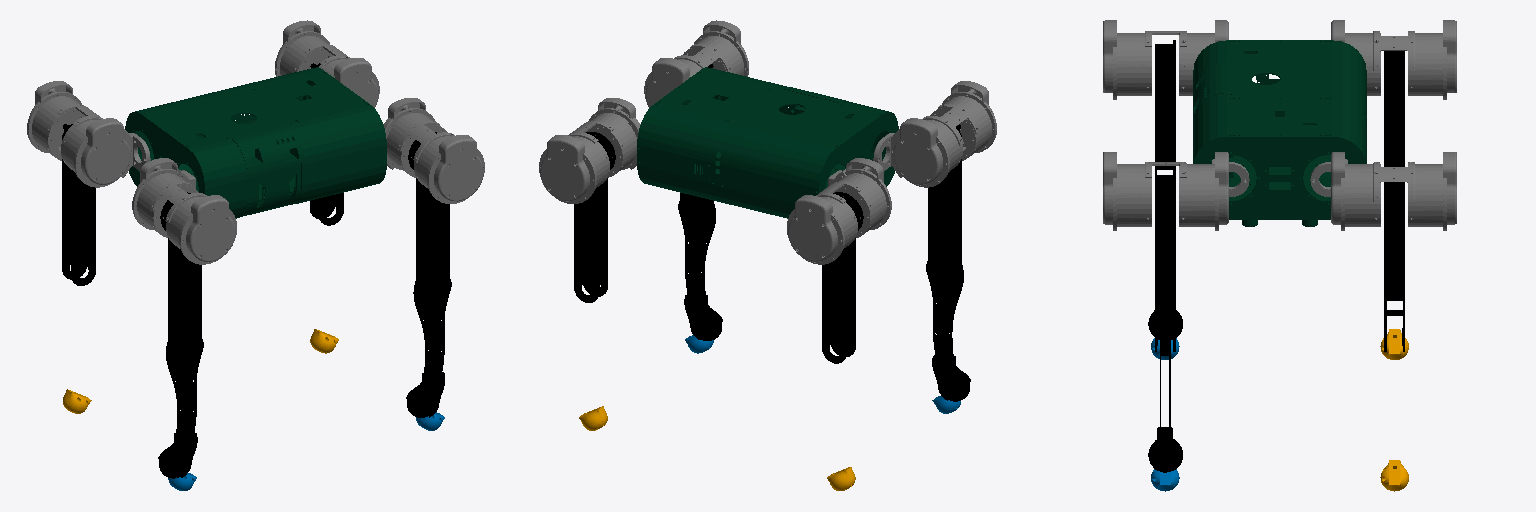
robot.urdf — m2_metal:
<?xml version="1.0" encoding="utf-8" ?>
<!-- =================================================================================== -->
<!-- |    This document was autogenerated by xacro from src/m2_metal_description/xacro/robot.xacro | -->
<!-- |    EDITING THIS FILE BY HAND IS NOT RECOMMENDED                                 | -->
<!-- =================================================================================== -->
<robot name="m2_metal">
  <!-- base -->
  <!-- <xacro:property name="base_com_x" value="0.002585"/>
<xacro:property name="base_com_y" value="0.003221"/>
<xacro:property name="base_com_z" value="0.008796"/>
<xacro:property name="base_mass" value="5.428590"/>
<xacro:property name="base_ixx" value="0.028959"/>
<xacro:property name="base_ixy" value="-0.000021"/>
<xacro:property name="base_ixz" value="0.001591"/>
<xacro:property name="base_iyy" value="0.0601762"/>
<xacro:property name="base_iyz" value="0.000025"/>
<xacro:property name="base_izz" value="0.068516"/> -->
  <!-- without camera mount
<xacro:property name="base_com_x" value="-0.002656"/>
<xacro:property name="base_com_y" value="0.003430"/>
<xacro:property name="base_com_z" value="0.000860"/>
<xacro:property name="base_mass" value="5.016234"/>
<xacro:property name="base_ixx" value="0.023890"/>
<xacro:property name="base_ixy" value="-0.000506"/>
<xacro:property name="base_ixz" value="-0.001154"/>
<xacro:property name="base_iyy" value="0.053100"/>
<xacro:property name="base_iyz" value="-0.000013"/>
<xacro:property name="base_izz" value="0.065972"/> -->
  

  <!-- <xacro:include filename="$(find m2_description)/xacro/transmission.xacro"/> -->
  <material name="svan_black">
    <color rgba="0.0 0.0 0.0 1.0"/>
  </material>
  <material name="svan_blue">
    <color rgba="0.0 0.0 0.8 1.0"/>
  </material>
  <material name="svan_green">
    <color rgba="0.024 0.251 0.169 1.0"/>
  </material>
  <material name="svan_grey">
    <color rgba="0.5 0.5 0.5 1.0"/>
  </material>

  <!-- <mujoco>
    <compiler 
    meshdir="../../meshes_metal/"
    discardvisual="false"
    balanceinertia="true"
  />
  </mujoco> -->

  <!-- <link name="world"/>
  <joint name="floating_base" type="floating">
    <origin rpy="0 0 0" xyz="0 0 0"/>
    <parent link="world"/>
    <child link="base"/>
  </joint> -->

 <link name="base">
    <visual>
      <origin rpy="0 0 0" xyz="0 0 0"/>
      <geometry>
        <mesh filename="../meshes_metal/torso.STL" scale="1 1 1"/>
        <!-- <mesh filename="[local-path]/Desktop/Dhaya/Dhaya_RL/isaac_sim/svan_m2_metal/m2_metal_description/m2_metal_description/../meshes_metal/torso.STL" scale="1 1 1"/> -->
      </geometry>
      <material name="svan_green"/>
    </visual>
    <collision>
      <origin rpy="0 0 0" xyz="0 0 0"/>
      <geometry>
        <box size="0.288 0.213 0.120"/>
      </geometry>
    </collision>
    <inertial>
      <origin rpy="0 0 0" xyz="0.00918208 -0.00133606 -0.00430117"/>
      <mass value="5.18596663"/>
      <inertia ixx="0.02220107" ixy="-0.00019966" ixz="-0.00048929" iyy="0.05026338" iyz="-1.273e-05" izz="0.06413613"/>
    </inertial>
  </link>
  <!-- hip_link-->
  <link name="FR_hip_link">
    <inertial>
      <origin rpy="0 0 0" xyz="0.04244851 -0.07733848 0.00084768"/>
      <mass value="1.12704463"/>
      <inertia ixx="0.0026019" ixy="0.0001226" ixz="7.5e-06" iyy="0.0009202" iyz="-2.4e-06" izz="0.0026365"/>
    </inertial>
    <visual>
      <origin rpy="0 0 0" xyz="0 0 0"/>
      <geometry>
        <mesh filename="../meshes_metal/FR_hip.STL"/>
      </geometry>
      <material name="svan_grey"/>
    </visual>
    <collision>
      <origin rpy="1.57079632679 0 0" xyz="0.043 -0.08 0"/>
      <geometry>
        <cylinder length="0.16" radius="0.045"/>
      </geometry>
    </collision>
  </link>
  <!-- hip_joint -->
  <joint name="FR_hip_joint" type="revolute">
    <origin rpy="0 0 0" xyz="0.147 -0.06 0.00025"/>
    <parent link="base"/>
    <child link="FR_hip_link"/>
    <axis xyz="1 0 0"/>
    <limit effort="20" lower="-4.8" upper="4.8" velocity="52.4"/>
  </joint>
  <!-- thigh link -->
  <link name="FR_thigh_link">
    <inertial>
      <origin rpy="0 0 0" xyz="0.0 0.00262472 -0.06933846"/>
      <mass value="0.15396568"/>
      <inertia ixx="0.00075104" ixy="0.0" ixz="0.0" iyy="0.00076325" iyz="-2.968e-05" izz="4.729e-05"/>
    </inertial>
    <visual>
      <origin rpy="0 0 0" xyz="0 0 0"/>
      <geometry>
        <mesh filename="../meshes_metal/FR_thigh.STL"/>
      </geometry>
      <material name="svan_black"/>
    </visual>
    <collision>
      <origin rpy="0 1.57079632679 0" xyz="0 0 -0.127"/>
      <geometry>
        <box size="0.16 0.027 0.038"/>
      </geometry>
    </collision>
  </link>
  <!-- thigh_joint -->
  <joint name="FR_thigh_joint" type="revolute">
    <origin rpy="0 0 0" xyz="0.043751 -0.0811 0"/>
    <parent link="FR_hip_link"/>
    <child link="FR_thigh_link"/>
    <axis xyz="0 1 0"/>
    <limit effort="55" lower="-4.047197551" upper="4.188790205" velocity="28.6"/>
  </joint>
  <!-- shank_link-->
  <link name="FR_shank_link">
    <inertial>
      <origin rpy="0 0 0" xyz="-0.00106 9e-06 -0.0450013"/>
      <mass value="0.124482"/>
      <inertia ixx="0.0005021" ixy="0.0" ixz="-1.27e-05" iyy="0.0005174" iyz="1e-07" izz="2.02e-05"/>
    </inertial>
    <visual>
      <origin rpy="0 0 0" xyz="0 0 0"/>
      <geometry>
        <mesh filename="../meshes_metal/FR_shank.STL"/>
      </geometry>
      <material name="svan_black"/>
    </visual>
    <collision>
      <origin rpy="0 1.309 0" xyz="-0.005 0 -0.09"/>
      <geometry>
        <box size="0.14 0.016 0.03"/>
      </geometry>
    </collision>

  </link>
  <!-- calf_joint -->
  <joint name="FR_calf_joint" type="revolute">
    <origin rpy="0 0 0" xyz="0 0 -0.1915"/>
    <parent link="FR_thigh_link"/>
    <child link="FR_shank_link"/>
    <axis xyz="0 1 0"/>
    <limit effort="55" lower="-4.696533694" upper="4.916297857" velocity="28.6"/>
  </joint>
  <!-- foot-->
  <link name="FR_foot">
    <contact>
      <friction_anchor/>
      <stiffness value="10000"/>
      <damping value="1000"/>
      <spinning_friction value="0.8"/>
      <lateral_friction value="10"/>
    </contact>
    <inertial>
      <origin rpy="0 0 0" xyz="-0.0025566 0.00017773 -0.00416818"/>
      <mass value="0.02330447"/>
      <inertia ixx="2.62e-06" ixy="1e-08" ixz="-3.7e-07" iyy="2.62e-06" iyz="2e-08" izz="3e-06"/>
    </inertial>
    <visual>
      <geometry>
        <mesh filename="../meshes_metal/FL_foot.STL"/>
      </geometry>
    </visual>
  <collision>
    <origin xyz="0.00 0.00017773 -0.001" rpy="0 0 0"/> <!-- optional if center is same -->
    <geometry>
      <sphere radius="0.021"/>
    </geometry>
  </collision>
  </link>
  <!-- foot_joint -->
  <joint name="FR_foot_joint" type="fixed" dont_collapse="true">
    <origin rpy="0 0 0" xyz="-0.00351 0 -0.1901"/>
    <parent link="FR_shank_link"/>
    <child link="FR_foot"/>
    <axis xyz="0 0 1"/>
    <limit effort="1000" lower="0" upper="0" velocity="0"/>
  </joint>

  <!-- hip_link-->
  <link name="FL_hip_link">
    <inertial>
      <origin rpy="0 0 0" xyz="0.04244851 0.07733848 0.00084768"/>
      <mass value="1.12704463"/>
      <inertia ixx="0.0026019" ixy="-0.0001226" ixz="7.5e-06" iyy="0.0009202" iyz="2.4e-06" izz="0.0026365"/>
    </inertial>
    <visual>
      <origin rpy="0 0 0" xyz="0 0 0"/>
      <geometry>
        <mesh filename="../meshes_metal/FL_hip.STL"/>
      </geometry>
      <material name="svan_grey"/>
    </visual>
    <collision>
      <origin rpy="1.57079632679 0 0" xyz="0.043 0.08 0"/>
      <geometry>
        <cylinder length="0.16" radius="0.045"/>
      </geometry>
    </collision>
  </link>
  <!-- hip_joint -->
  <joint name="FL_hip_joint" type="revolute">
    <origin rpy="0 0 0" xyz="0.147 0.06 0.00025"/>
    <parent link="base"/>
    <child link="FL_hip_link"/>
    <axis xyz="1 0 0"/>
    <limit effort="20" lower="-4.8" upper="4.8" velocity="52.4"/>
  </joint>
  <!-- thigh link -->
  <link name="FL_thigh_link">
    <inertial>
      <origin rpy="0 0 0" xyz="0.0 -0.00262472 -0.06933846"/>
      <mass value="0.15396568"/>
      <inertia ixx="0.00075104" ixy="-0.0" ixz="0.0" iyy="0.00076325" iyz="2.968e-05" izz="4.729e-05"/>
    </inertial>
    <visual>
      <origin rpy="0 0 0" xyz="0 0 0"/>
      <geometry>
        <mesh filename="../meshes_metal/FL_thigh.STL"/>
      </geometry>
      <material name="svan_black"/>
    </visual>
    <collision>
      <origin rpy="0 1.57079632679 0" xyz="0 0 -0.127"/>
      <geometry>
        <box size="0.16 0.027 0.038"/>
      </geometry>
    </collision>
  </link>
  <!-- thigh_joint -->
  <joint name="FL_thigh_joint" type="revolute">
    <origin rpy="0 0 0" xyz="0.043751 0.0811 0"/>
    <parent link="FL_hip_link"/>
    <child link="FL_thigh_link"/>
    <axis xyz="0 1 0"/>
    <limit effort="55" lower="-4.047197551" upper="4.188790205" velocity="28.6"/>
  </joint>
  <!-- shank_link-->
  <link name="FL_shank_link">
    <inertial>
      <origin rpy="0 0 0" xyz="-0.00106 -9e-06 -0.0450013"/>
      <mass value="0.124482"/>
      <inertia ixx="0.0005021" ixy="-0.0" ixz="-1.27e-05" iyy="0.0005174" iyz="-1e-07" izz="2.02e-05"/>
    </inertial>
    <visual>
      <origin rpy="0 0 0" xyz="0 0 0"/>
      <geometry>
        <mesh filename="../meshes_metal/FL_shank.STL"/>
      </geometry>
      <material name="svan_black"/>
    </visual>
    <collision>
      <origin rpy="0 1.309 0" xyz="-0.005 0 -0.09"/>
      <geometry>
        <box size="0.14 0.016 0.03"/>
      </geometry>
    </collision>
  </link>
  <!-- calf_joint -->
  <joint name="FL_calf_joint" type="revolute">
    <origin rpy="0 0 0" xyz="0 0 -0.1915"/>
    <parent link="FL_thigh_link"/>
    <child link="FL_shank_link"/>
    <axis xyz="0 1 0"/>
    <limit effort="55" lower="-4.696533694" upper="4.916297857" velocity="28.6"/>
  </joint>
  <!-- foot-->
  <link name="FL_foot">
    <contact>
      <friction_anchor/>
      <stiffness value="10000"/>
      <damping value="1000"/>
      <spinning_friction value="0.8"/>
      <lateral_friction value="10"/>
    </contact>
    <inertial>
      <origin rpy="0 0 0" xyz="-0.0025566 -0.00017773 -0.00416818"/>
      <mass value="0.02330447"/>
      <inertia ixx="2.62e-06" ixy="-1e-08" ixz="-3.7e-07" iyy="2.62e-06" iyz="-2e-08" izz="3e-06"/>
    </inertial>
    <visual>
      <geometry>
        <mesh filename="../meshes_metal/FL_foot.STL"/>
      </geometry>
    </visual>
  <collision>
    <origin xyz="0.00 0.00017773 -0.001" rpy="0 0 0"/> <!-- optional if center is same -->
    <geometry>
      <sphere radius="0.021"/>
    </geometry>
  </collision>
  </link>
  <!-- foot_joint -->
  <joint name="FL_foot_joint" type="fixed" dont_collapse="true">
    <origin rpy="0 0 0" xyz="-0.00351 0 -0.1901"/>
    <parent link="FL_shank_link"/>
    <child link="FL_foot"/>
    <axis xyz="0 0 1"/>
    <limit effort="1000" lower="0" upper="0" velocity="0"/>
  </joint>

  <!-- hip_link-->
  <link name="RR_hip_link">
    <inertial>
      <origin rpy="0 0 0" xyz="-0.04244851 -0.07733848 0.00084768"/>
      <mass value="1.12704463"/>
      <inertia ixx="0.0026019" ixy="-0.0001226" ixz="-7.5e-06" iyy="0.0009202" iyz="-2.4e-06" izz="0.0026365"/>
    </inertial>
    <visual>
      <origin rpy="3.14159265359 3.14159265359 0" xyz="0 0 0"/>
      <geometry>
        <mesh filename="../meshes_metal/FL_hip.STL"/>
      </geometry>
      <material name="svan_grey"/>
    </visual>
    <collision>
      <origin rpy="1.57079632679 0 0" xyz="-0.043 -0.08 0"/>
      <geometry>
        <cylinder length="0.16" radius="0.045"/>
      </geometry>
    </collision>
  </link>
  <!-- hip_joint -->
  <joint name="RR_hip_joint" type="revolute">
    <origin rpy="0 0 0" xyz="-0.147 -0.06 0.00025"/>
    <parent link="base"/>
    <child link="RR_hip_link"/>
    <axis xyz="1 0 0"/>
    <limit effort="20" lower="-4.8" upper="4.8" velocity="52.4"/>
  </joint>
  <!-- thigh link -->
  <link name="RR_thigh_link">
    <inertial>
      <origin rpy="0 0 0" xyz="-0.0 0.00262472 -0.06933846"/>
      <mass value="0.15396568"/>
      <inertia ixx="0.00075104" ixy="-0.0" ixz="-0.0" iyy="0.00076325" iyz="-2.968e-05" izz="4.729e-05"/>
    </inertial>
    <visual>
      <origin rpy="0 0 0" xyz="0 0 0"/>
      <geometry>
        <mesh filename="../meshes_metal/FR_thigh.STL"/>
      </geometry>
      <material name="svan_black"/>
    </visual>
    <collision>
      <origin rpy="0 1.57079632679 0" xyz="0 0 -0.127"/>
      <geometry>
        <box size="0.16 0.027 0.038"/>
      </geometry>
    </collision>
  </link>
  <!-- thigh_joint -->
  <joint name="RR_thigh_joint" type="revolute">
    <origin rpy="0 0 0" xyz="-0.043751 -0.0811 0"/>
    <parent link="RR_hip_link"/>
    <child link="RR_thigh_link"/>
    <axis xyz="0 1 0"/>
    <limit effort="55" lower="-4.047197551" upper="4.188790205" velocity="28.6"/>
  </joint>
  <!-- shank_link-->
  <link name="RR_shank_link">
    <inertial>
      <origin rpy="0 0 0" xyz="0.00106 9e-06 -0.0450013"/>
      <mass value="0.124482"/>
      <inertia ixx="0.0005021" ixy="0.0" ixz="-1.27e-05" iyy="0.0005174" iyz="1e-07" izz="2.02e-05"/>
    </inertial>
    <visual>
      <origin rpy="0 0 0" xyz="0 0 0"/>
      <geometry>
        <mesh filename="../meshes_metal/FR_shank.STL"/>
      </geometry>
      <material name="svan_black"/>
    </visual>
    <collision>
      <origin rpy="0 1.309 0" xyz="-0.005 0 -0.09"/>
      <geometry>
        <box size="0.14 0.016 0.03"/>
      </geometry>
    </collision>
  </link>
  <!-- calf_joint -->
  <joint name="RR_calf_joint" type="revolute">
    <origin rpy="0 0 0" xyz="0 0 -0.1915"/>
    <parent link="RR_thigh_link"/>
    <child link="RR_shank_link"/>
    <axis xyz="0 1 0"/>
    <limit effort="55" lower="-4.696533694" upper="4.916297857" velocity="28.6"/>
  </joint>
  <!-- foot-->
  <link name="RR_foot">
    <contact>
      <friction_anchor/>
      <stiffness value="10000"/>
      <damping value="1000"/>
      <spinning_friction value="0.8"/>
      <lateral_friction value="10"/>
    </contact>
    <inertial>
      <origin rpy="0 0 0" xyz="0.0025566 0.00017773 -0.00416818"/>
      <mass value="0.02330447"/>
      <inertia ixx="2.62e-06" ixy="-1e-08" ixz="3.7e-07" iyy="2.62e-06" iyz="2e-08" izz="3e-06"/>
    </inertial>
    <visual>
      <geometry>
        <mesh filename="../meshes_metal/FL_foot.STL"/>
      </geometry>
    </visual>
  <collision>
    <origin xyz="0.00 0.00017773 -0.001" rpy="0 0 0"/> <!-- optional if center is same -->
    <geometry>
      <sphere radius="0.021"/>
    </geometry>
  </collision>
  </link>
  <!-- foot_joint -->
  <joint name="RR_foot_joint" type="fixed" dont_collapse="true">
    <origin rpy="0 0 0" xyz="-0.00351 0 -0.1901"/>
    <parent link="RR_shank_link"/>
    <child link="RR_foot"/>
    <axis xyz="0 0 1"/>
    <limit effort="1000" lower="0" upper="0" velocity="0"/>
  </joint>

  <!-- hip_link-->
  <link name="RL_hip_link">
    <inertial>
      <origin rpy="0 0 0" xyz="-0.04244851 0.07733848 0.00084768"/>
      <mass value="1.12704463"/>
      <inertia ixx="0.0026019" ixy="0.0001226" ixz="-7.5e-06" iyy="0.0009202" iyz="2.4e-06" izz="0.0026365"/>
    </inertial>
    <visual>
      <origin rpy="3.14159265359 3.14159265359 0" xyz="0 0 0"/>
      <geometry>
        <mesh filename="../meshes_metal/FR_hip.STL"/>
      </geometry>
      <material name="svan_grey"/>
    </visual>
    <collision>
      <origin rpy="1.57079632679 0 0" xyz="-0.043 0.08 0"/>
      <geometry>
        <cylinder length="0.16" radius="0.045"/>
      </geometry>
    </collision>
  </link>
  <!-- hip_joint -->
  <joint name="RL_hip_joint" type="revolute">
    <origin rpy="0 0 0" xyz="-0.147 0.06 0.00025"/>
    <parent link="base"/>
    <child link="RL_hip_link"/>
    <axis xyz="1 0 0"/>
    <limit effort="20" lower="-4.8" upper="4.8" velocity="52.4"/>
  </joint>
  <!-- thigh link -->
  <link name="RL_thigh_link">
    <inertial>
      <origin rpy="0 0 0" xyz="-0.0 -0.00262472 -0.06933846"/>
      <mass value="0.15396568"/>
      <inertia ixx="0.00075104" ixy="0.0" ixz="-0.0" iyy="0.00076325" iyz="2.968e-05" izz="4.729e-05"/>
    </inertial>
    <visual>
      <origin rpy="0 0 0" xyz="0 0 0"/>
      <geometry>
        <mesh filename="../meshes_metal/FL_thigh.STL"/>
      </geometry>
      <material name="svan_black"/>
    </visual>
    <collision>
      <origin rpy="0 1.57079632679 0" xyz="0 0 -0.127"/>
      <geometry>
        <box size="0.16 0.027 0.038"/>
      </geometry>
    </collision>
  </link>
  <!-- thigh_joint -->
  <joint name="RL_thigh_joint" type="revolute">
    <origin rpy="0 0 0" xyz="-0.043751 0.0811 0"/>
    <parent link="RL_hip_link"/>
    <child link="RL_thigh_link"/>
    <axis xyz="0 1 0"/>
    <limit effort="55" lower="-4.047197551" upper="4.188790205" velocity="28.6"/>
  </joint>
  <!-- shank_link-->
  <link name="RL_shank_link">
    <inertial>
      <origin rpy="0 0 0" xyz="0.00106 -9e-06 -0.0450013"/>
      <mass value="0.124482"/>
      <inertia ixx="0.0005021" ixy="-0.0" ixz="-1.27e-05" iyy="0.0005174" iyz="-1e-07" izz="2.02e-05"/>
    </inertial>
    <visual>
      <origin rpy="0 0 0" xyz="0 0 0"/>
      <geometry>
        <mesh filename="../meshes_metal/FL_shank.STL"/>
      </geometry>
      <material name="svan_black"/>
    </visual>
    <collision>
      <origin rpy="0 1.309 0" xyz="-0.005 0 -0.09"/>
      <geometry>
        <box size="0.14 0.016 0.03"/>
      </geometry>
    </collision>
  </link>
  <!-- calf_joint -->
  <joint name="RL_calf_joint" type="revolute">
    <origin rpy="0 0 0" xyz="0 0 -0.1915"/>
    <parent link="RL_thigh_link"/>
    <child link="RL_shank_link"/>
    <axis xyz="0 1 0"/>
    <limit effort="55" lower="-4.696533694" upper="4.916297857" velocity="28.6"/>
  </joint>
  <!-- foot-->
  <link name="RL_foot">
    <contact>
      <friction_anchor/>
      <stiffness value="10000"/>
      <damping value="1000"/>
      <spinning_friction value="0.8"/>
      <lateral_friction value="10"/>
    </contact>
    <inertial>
      <origin rpy="0 0 0" xyz="0.0025566 -0.00017773 -0.00416818"/>
      <mass value="0.02330447"/>
      <inertia ixx="2.62e-06" ixy="1e-08" ixz="3.7e-07" iyy="2.62e-06" iyz="-2e-08" izz="3e-06"/>
    </inertial>
    <visual>
      <geometry>
        <mesh filename="../meshes_metal/FL_foot.STL"/>
      </geometry>
    </visual>
  <collision>
    <origin xyz="0.00 0.00017773 -0.001" rpy="0 0 0"/> <!-- optional if center is same -->
    <geometry>
      <sphere radius="0.021"/>
    </geometry>
  </collision>
  </link>
  <!-- foot_joint -->
  <joint name="RL_foot_joint" type="fixed" dont_collapse="true">
    <origin rpy="0 0 0" xyz="-0.00351 0 -0.1901"/>
    <parent link="RL_shank_link"/>
    <child link="RL_foot"/>
    <axis xyz="0 0 1"/>
    <limit effort="1000" lower="0" upper="0" velocity="0"/>
  </joint>
</robot>

--- Facts derived from the render (not from the file) ---
The picture shows the robot from 3 angles, left to right: view 1: azimuth 30°, elevation 25°; view 2: azimuth 150°, elevation 25°; view 3: azimuth 270°, elevation 25°; orthographic projection.
Model m2_metal with 17 links and 16 joints (12 revolute, 4 fixed), rooted at base, posed every joint at zero.
Visible links, largest first — view 1: base, RL_hip_link, RR_hip_link, FR_hip_link, FL_hip_link, RL_thigh_link, RR_thigh_link, FR_thigh_link, RR_shank_link, FR_shank_link, FL_thigh_link; view 2: base, RR_hip_link, RL_hip_link, FL_hip_link, FR_hip_link, RL_thigh_link, FL_thigh_link, RR_thigh_link, RR_shank_link, FR_shank_link, FR_thigh_link; view 3: base, FL_hip_link, FR_hip_link, RL_hip_link, RR_hip_link, FR_thigh_link, FL_thigh_link, RR_thigh_link, RL_thigh_link, FR_shank_link, FL_foot, RL_foot (+1 smaller).
Link boxes in pixels (x1=…): base: x1=125, y1=67, x2=386, y2=218; RL_hip_link: x1=27, y1=81, x2=150, y2=187; RR_hip_link: x1=132, y1=158, x2=236, y2=264; FR_hip_link: x1=383, y1=98, x2=484, y2=203; FL_hip_link: x1=275, y1=20, x2=379, y2=107; RL_thigh_link: x1=62, y1=124, x2=95, y2=285; RR_thigh_link: x1=160, y1=192, x2=201, y2=363; FR_thigh_link: x1=408, y1=132, x2=449, y2=302; RR_shank_link: x1=158, y1=332, x2=203, y2=478; FR_shank_link: x1=406, y1=271, x2=451, y2=417; FL_thigh_link: x1=310, y1=63, x2=343, y2=225; base: x1=637, y1=67, x2=898, y2=218; RR_hip_link: x1=873, y1=81, x2=996, y2=187; RL_hip_link: x1=787, y1=158, x2=891, y2=264; FL_hip_link: x1=539, y1=98, x2=640, y2=203; FR_hip_link: x1=644, y1=20, x2=748, y2=107; RL_thigh_link: x1=822, y1=192, x2=863, y2=363; FL_thigh_link: x1=574, y1=132, x2=615, y2=302; RR_thigh_link: x1=928, y1=124, x2=961, y2=285; RR_shank_link: x1=926, y1=253, x2=970, y2=401; FR_shank_link: x1=678, y1=199, x2=722, y2=340; FR_thigh_link: x1=680, y1=64, x2=713, y2=225; base: x1=1193, y1=40, x2=1366, y2=226; FL_hip_link: x1=1310, y1=152, x2=1456, y2=230; FR_hip_link: x1=1103, y1=152, x2=1249, y2=230; RL_hip_link: x1=1331, y1=20, x2=1456, y2=99; RR_hip_link: x1=1103, y1=20, x2=1228, y2=99; FR_thigh_link: x1=1155, y1=171, x2=1175, y2=351; FL_thigh_link: x1=1384, y1=182, x2=1404, y2=351; RR_thigh_link: x1=1155, y1=40, x2=1175, y2=174; RL_thigh_link: x1=1384, y1=51, x2=1404, y2=166; FR_shank_link: x1=1148, y1=317, x2=1182, y2=472; FL_foot: x1=1380, y1=460, x2=1408, y2=491; RL_foot: x1=1380, y1=329, x2=1408, y2=359.
Bounding box of the posed robot: 0.4685 × 0.4357 × 0.4584 m (x, y, z).
15 mesh visuals loaded from 8 distinct referenced files (7 binary STL); not drawn: 2 (reference not matched to a file when rendering).
